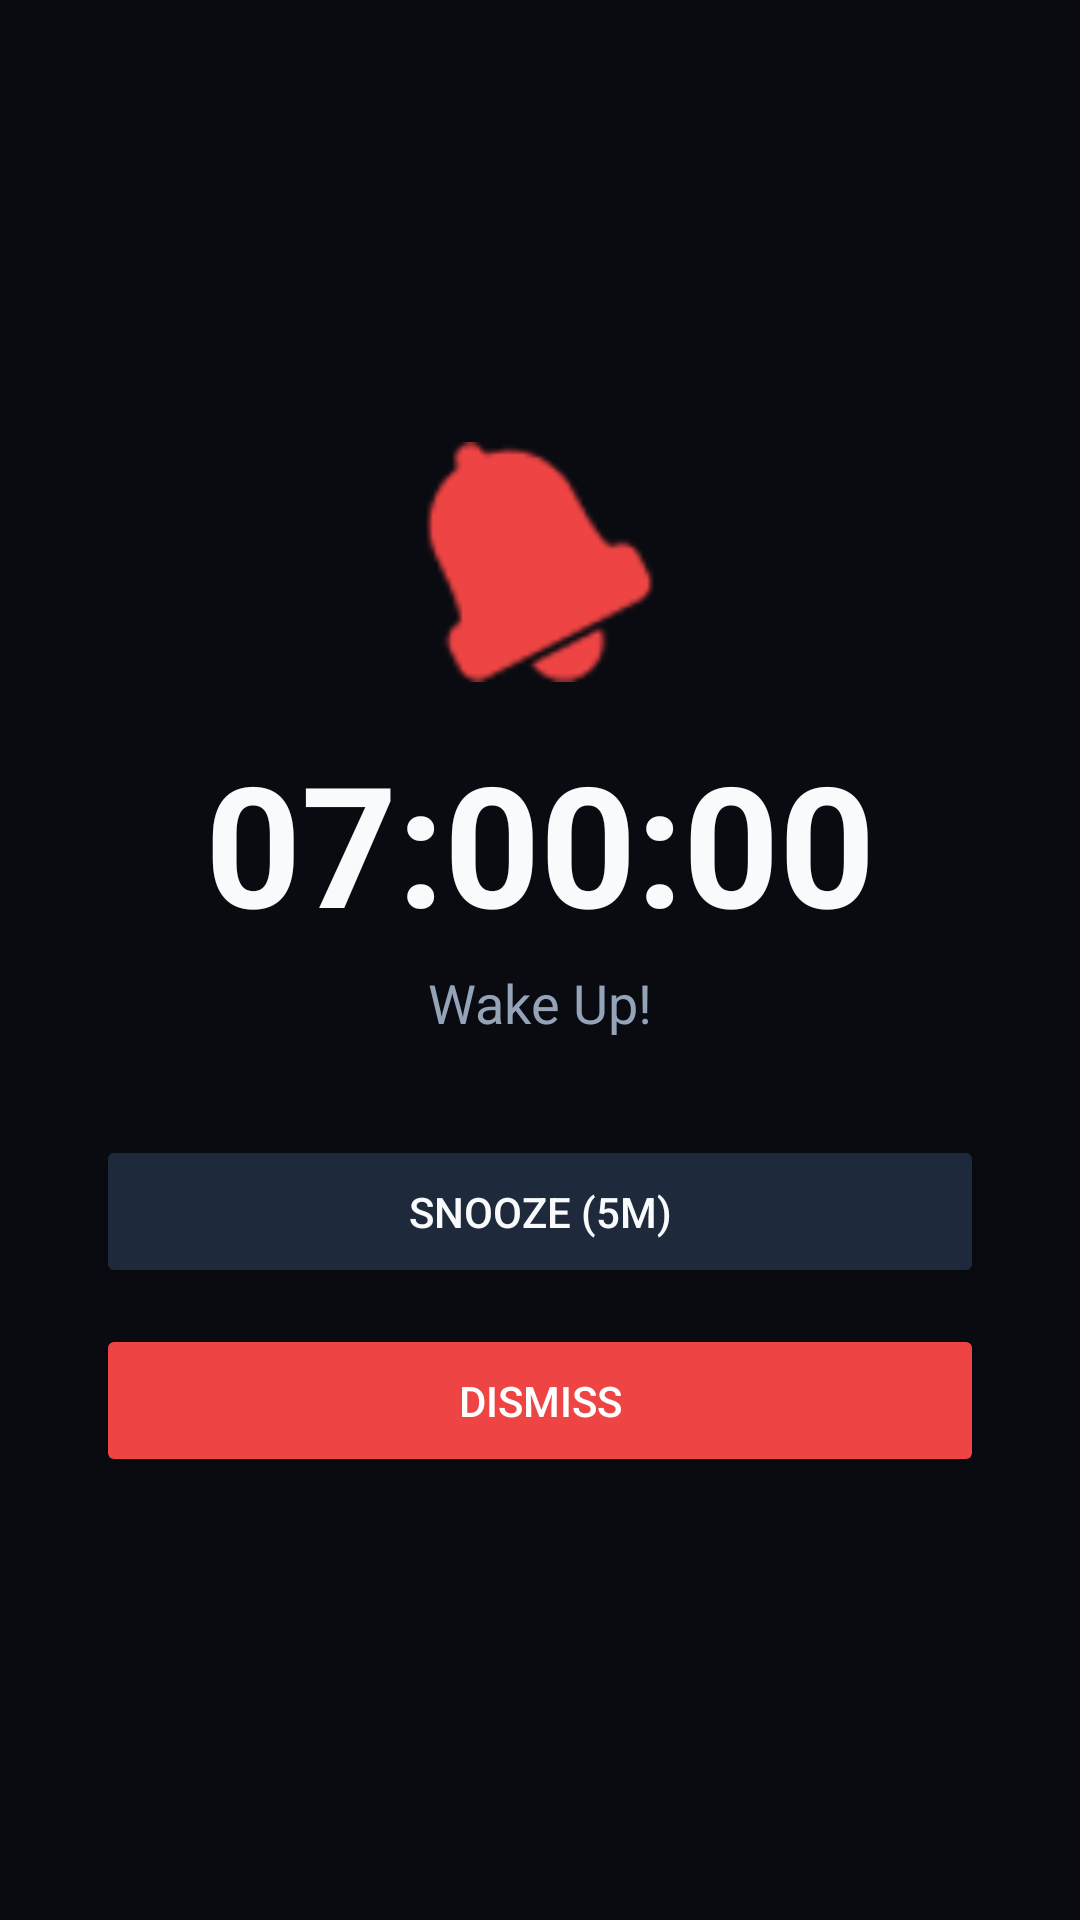

Named icons in this screenshot (1080 × 1920) and their bounding boxes, bbox(x1, y1, x2, y2):
popup reminder: bbox(427, 442, 653, 682)
